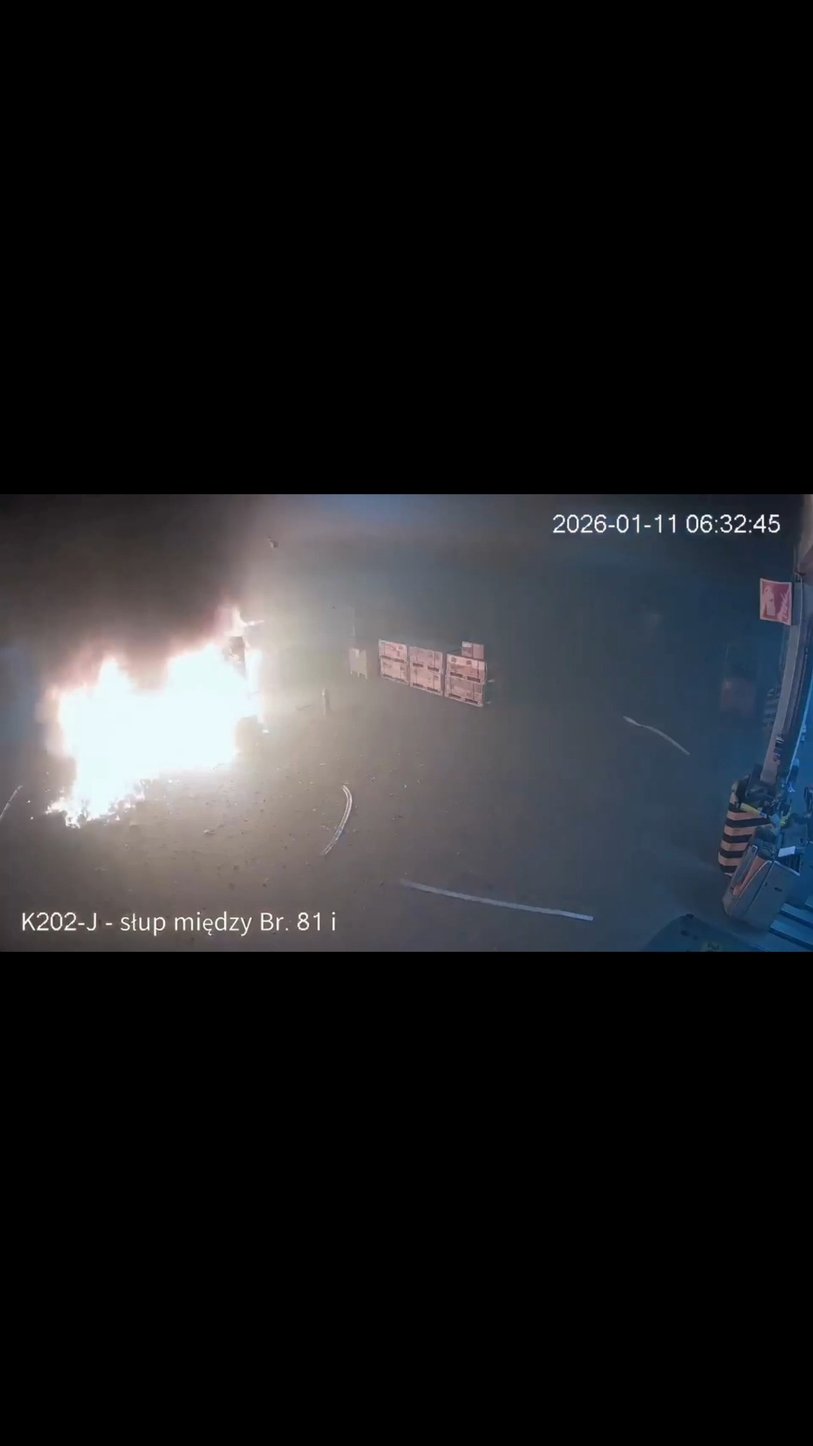fire: (44, 601, 270, 831)
smoke: (1, 496, 341, 700)
